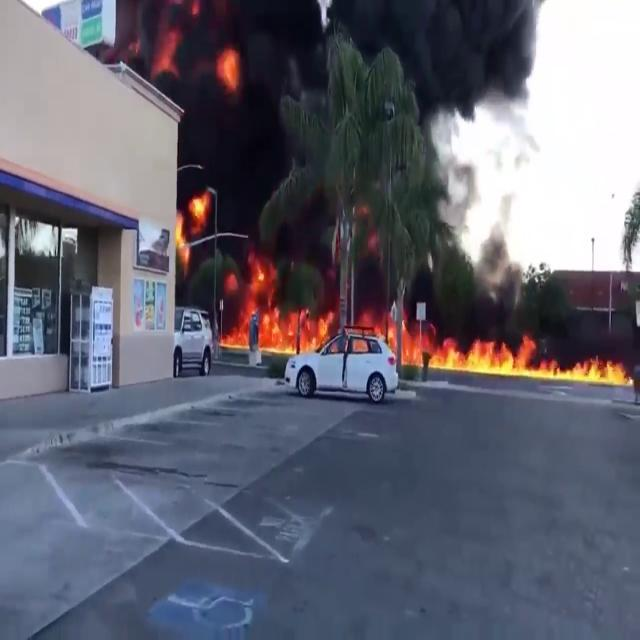Fire: (425, 328, 631, 384), (220, 268, 336, 357), (172, 187, 210, 267), (173, 188, 210, 238)
Smoke: (383, 0, 547, 338), (149, 0, 351, 268)
